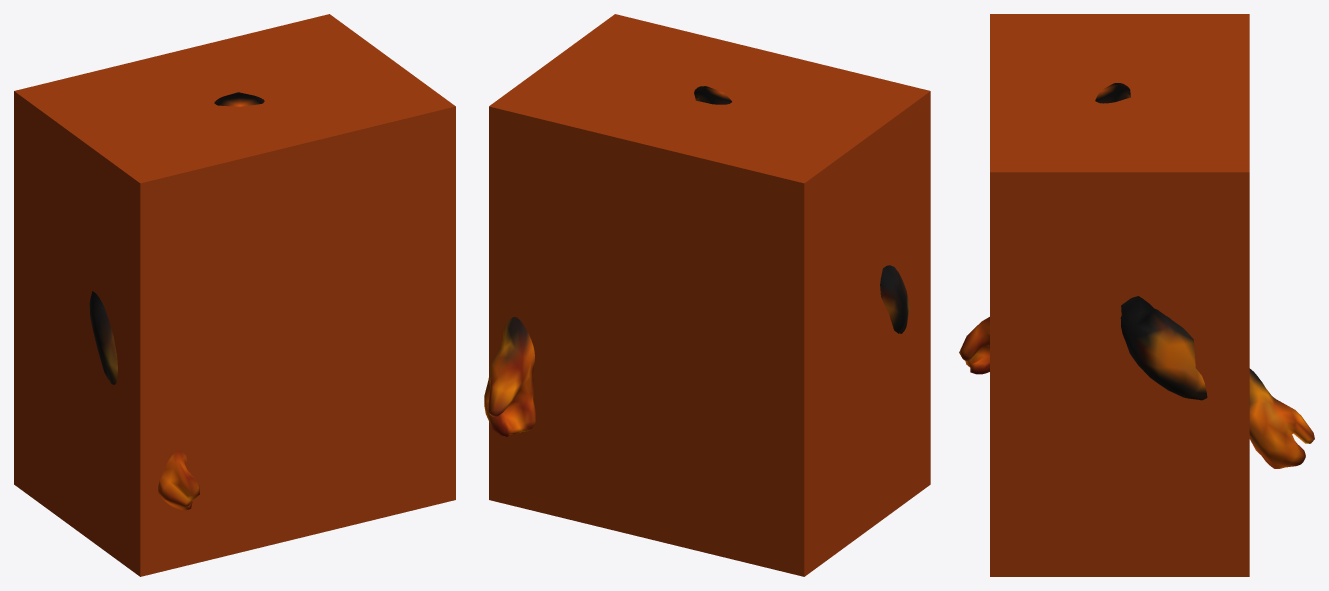
File: MagmaElemental_1_000012.obj
The picture shows the model from 3 angles, left to right: view 1: azimuth 30°, elevation 25°; view 2: azimuth 150°, elevation 25°; view 3: azimuth 270°, elevation 25°; orthographic projection. The views are drawn at different scales.
Parts seen in each view (by area): view 1: Cube, Elemental_FireGolem; view 2: Cube, Elemental_FireGolem; view 3: Cube, Elemental_FireGolem.
Boxes of the visible parts, box(x1,y1,x2,y2) form: Cube: box(14, 14, 455, 576); Elemental_FireGolem: box(89, 92, 264, 510); Cube: box(489, 14, 930, 576); Elemental_FireGolem: box(484, 86, 909, 436); Cube: box(990, 14, 1249, 576); Elemental_FireGolem: box(959, 83, 1314, 468).
Size of the model in its own units: 3.37 by 3.91 by 3.03.
2 materials, 1 textured.
